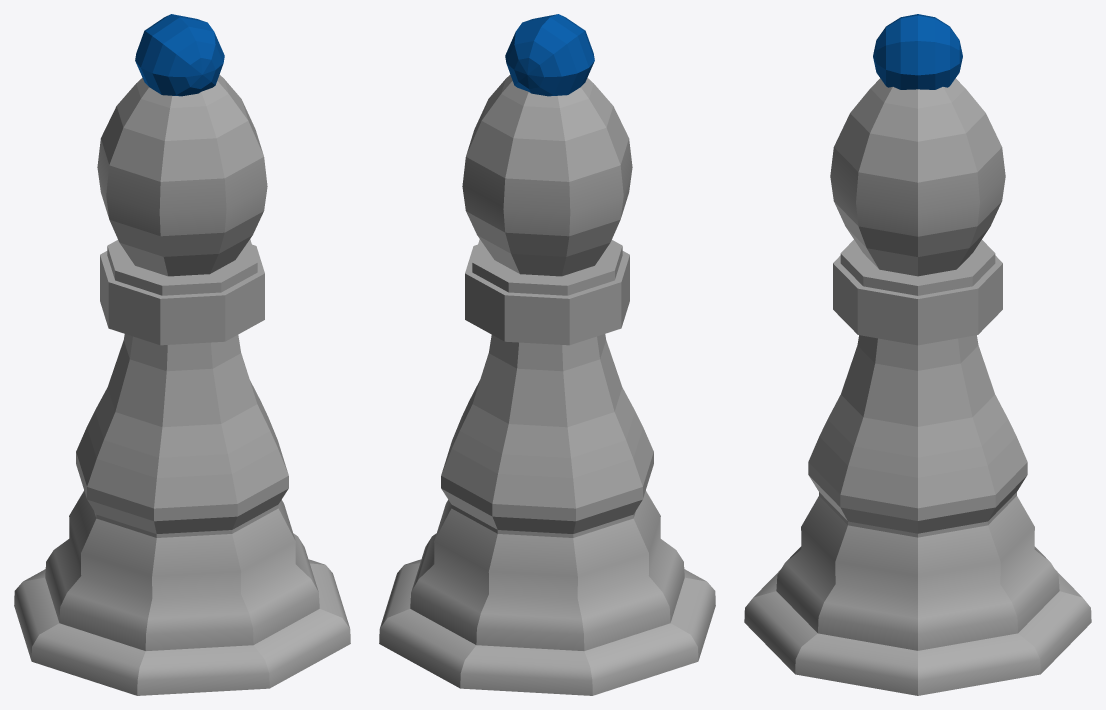
Rendered from alfil.fbx.
3 renders of one model, left to right at view 1: azimuth 30°, elevation 25°; view 2: azimuth 150°, elevation 25°; view 3: azimuth 270°, elevation 25°, orthographic.
Parts seen in each view (by area): view 1: Alfil, pSphere1; view 2: Alfil, pSphere1; view 3: Alfil, pSphere1.
Part boxes in pixels (x1,y1,x2,y2): Alfil: [14, 74, 350, 695]; pSphere1: [135, 14, 224, 96]; Alfil: [379, 74, 715, 695]; pSphere1: [505, 14, 594, 96]; Alfil: [744, 78, 1091, 695]; pSphere1: [873, 14, 962, 89].
Bounding box in the file's own units: 1.48 × 2.85 × 1.48.
